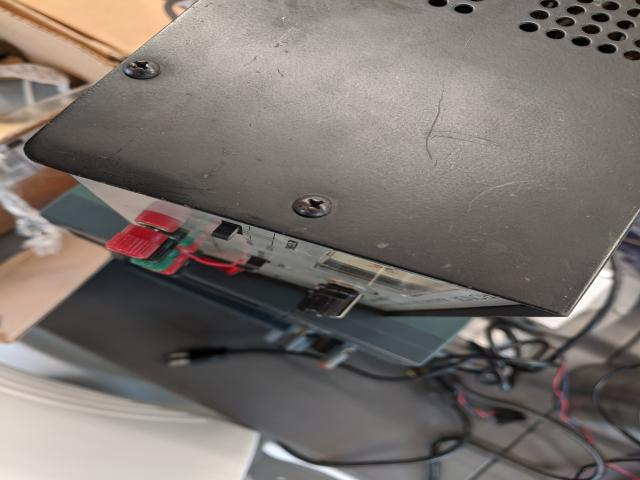CRS: (292, 194, 332, 217), (124, 58, 164, 80)
